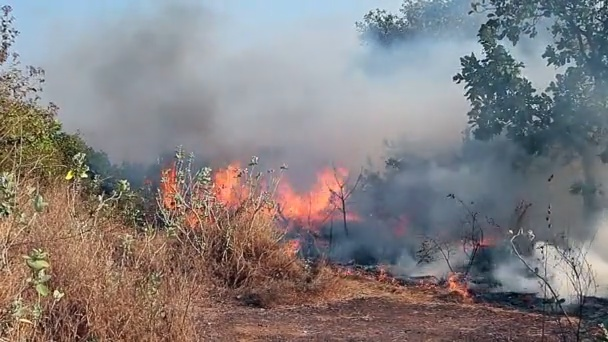fire: (63, 169, 73, 179)
